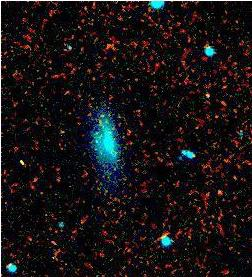star: (208, 181, 238, 211)
